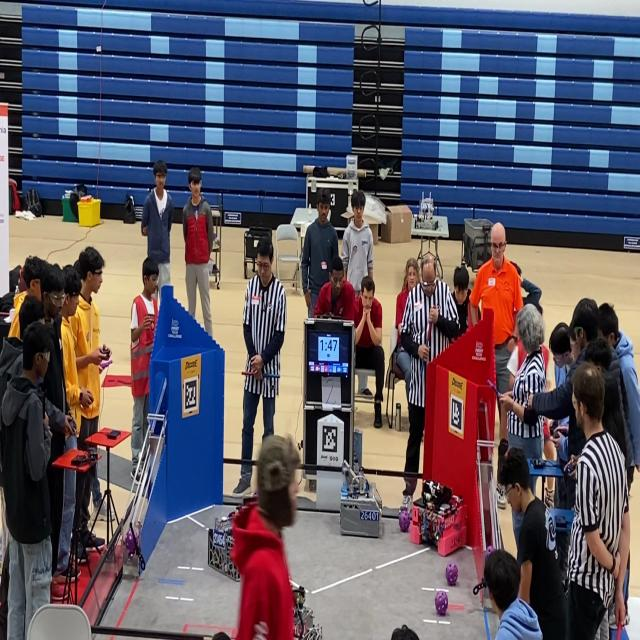artifact_purple: (125, 528, 136, 557), (435, 591, 448, 615), (446, 563, 458, 586), (399, 510, 410, 532), (485, 546, 494, 561)
